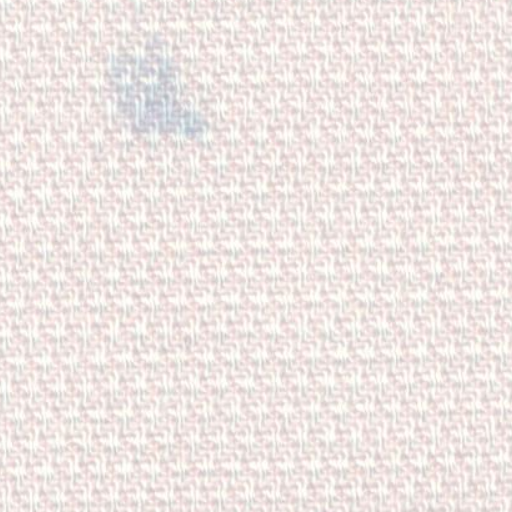WuZi: (85, 35, 220, 150)
